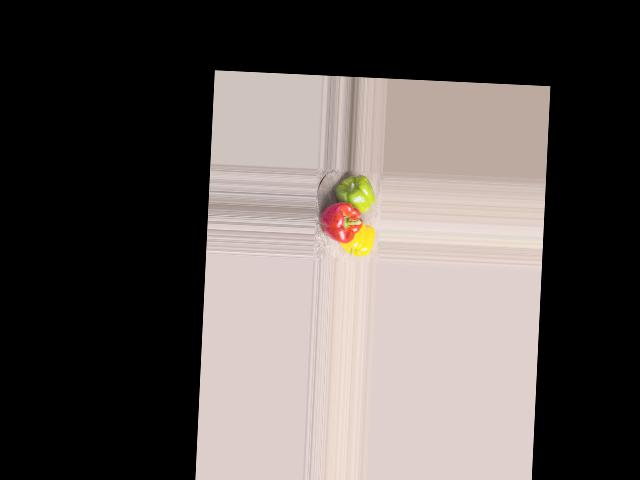bell_pepper: (339, 223, 377, 257)
